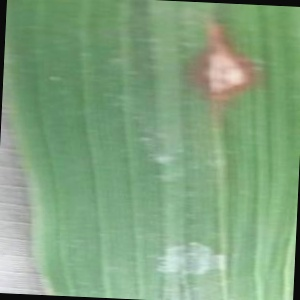Brown_Spot: (189, 16, 264, 114)
